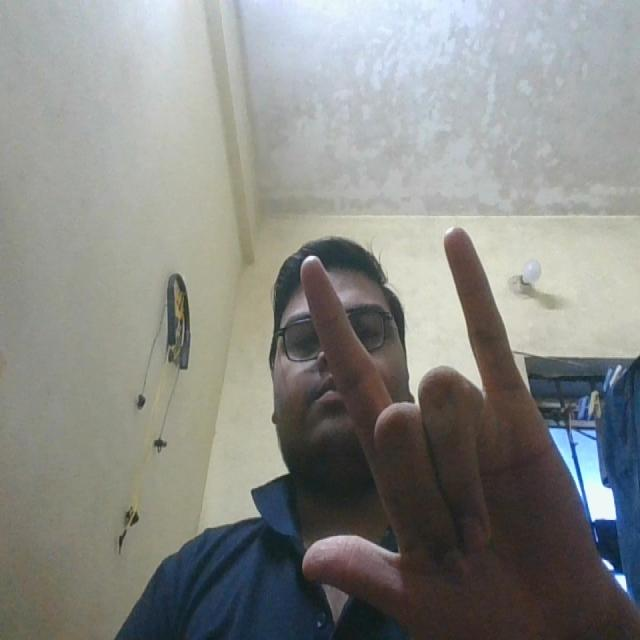iloveyou: (277, 215, 575, 614)
